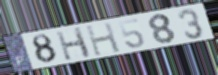3: (177, 7, 205, 41)
5: (117, 17, 147, 49)
8: (148, 13, 177, 44), (31, 33, 59, 65)
H: (54, 25, 93, 62), (84, 20, 122, 57)
